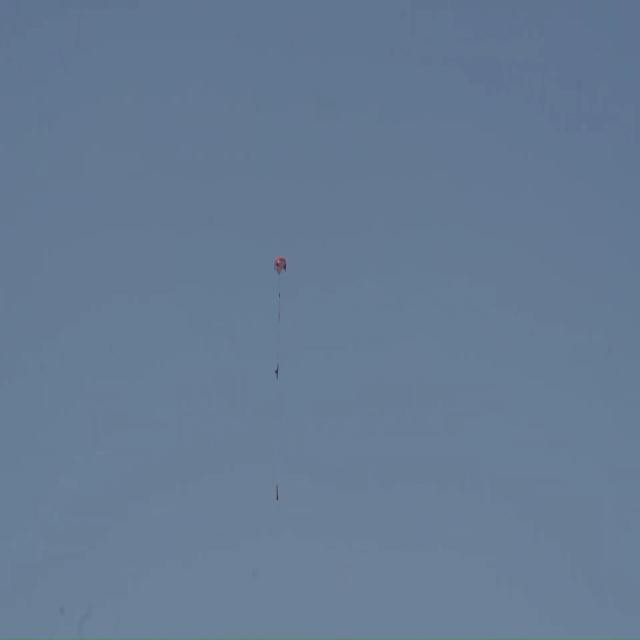Rocket: (275, 484, 279, 501)
